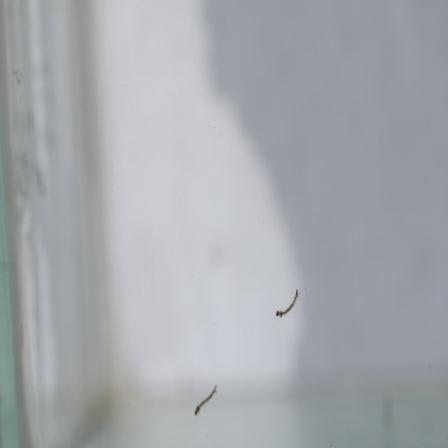Jentik-Nyamuk: (273, 284, 303, 325), (189, 382, 222, 418)
